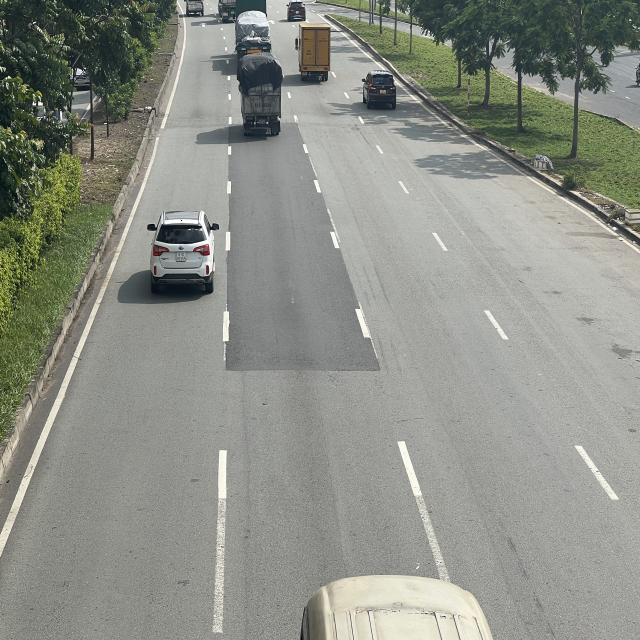car: (150, 209, 221, 293), (362, 70, 399, 108), (285, 0, 306, 21)
truck: (239, 51, 284, 133), (294, 22, 330, 82)
